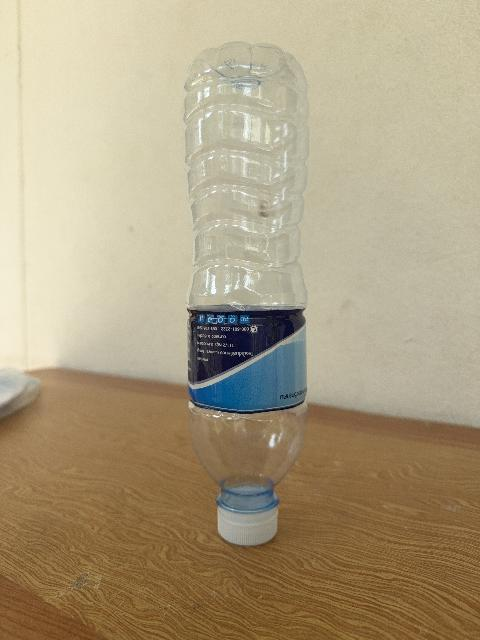bottle: (184, 42, 308, 545)
